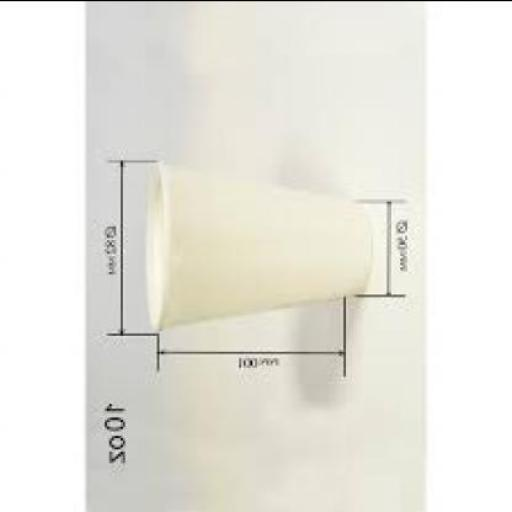paper: (143, 155, 371, 332)
